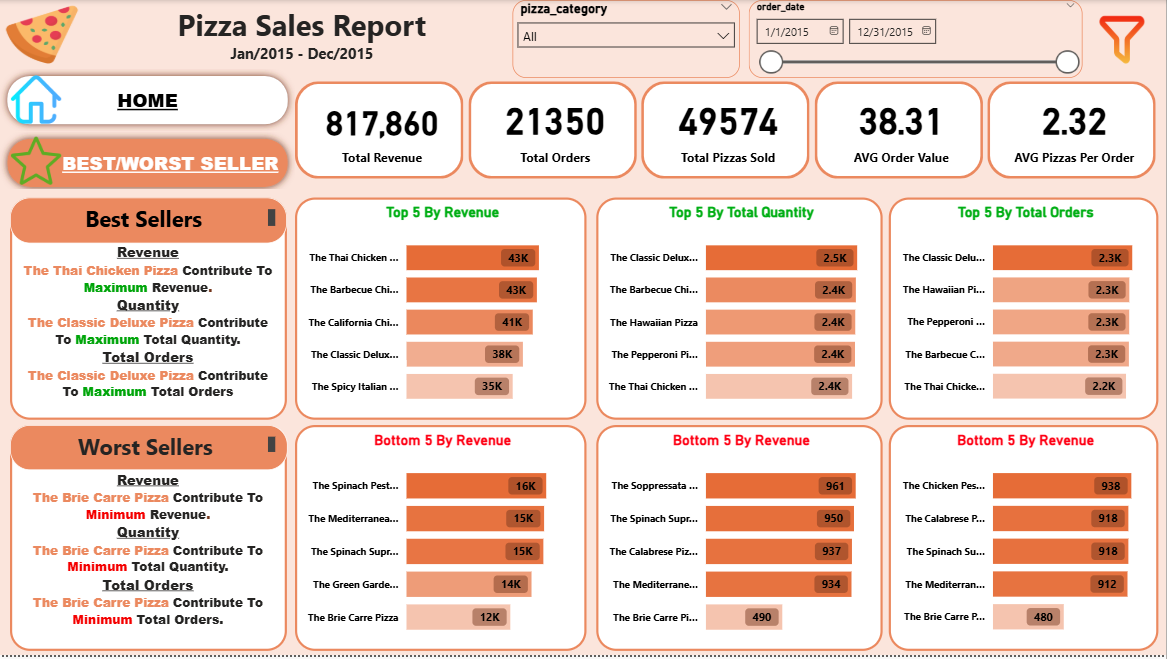

The page's visual inventory and layout, read from the dashboard file:
{"tool":"powerbi","page":{"name":"BEST/WORST SELLER","canvas":[1280,720],"ordinal":1},"visuals":[{"type":"cardVisual","fields":{"Data":["Sum(Total_Revenue.Total Revenue)","Sum(Total_Orders.Total_Orders)","Sum(Total_Pizzas_Sold.Total_Pizzas_Sold)","Sum(AVG_Order_Value.AVG_Order_Value)","Min(AVG_Pizzas_Per_Order.AVG_Pizzas_Per_Order)"]},"box":[323.8,89.2,946.8,107],"z":0},{"type":"slicer","fields":{"Values":["pizza_sales.pizza_category"]},"box":[562.1,0,249.8,85.5],"z":1000},{"type":"slicer","fields":{"Values":["pizza_sales.order_date"]},"box":[821.4,0,366.6,85.5],"z":2000},{"type":"image","box":[1192,0,78.7,85.5],"z":3000},{"type":"textbox","box":[111.1,0,440.5,79.6],"z":4000},{"type":"image","box":[0,0,92.3,76],"z":5000},{"type":"pageNavigator","box":[0,76,324.5,133.1],"z":6000},{"type":"image","box":[0,77.4,78.7,65.2],"z":7000},{"type":"image","box":[0,143.9,78.7,65.2],"z":8000},{"type":"textbox","box":[10.9,217,304.1,244],"z":9000},{"type":"textbox","box":[10.9,467,304.1,248],"z":10000},{"type":"textbox","box":[11,466.6,304.6,49.4],"z":11000},{"type":"textbox","box":[10.9,217.2,304.1,50.2],"z":12000},{"type":"barChart","title":"Bottom 5 By Revenue","fields":{"Category":["Bottom_5_Pizzas_by_Revenue (2).pizza_name"],"Y":["Sum(Bottom_5_Pizzas_by_Revenue (2).Total_Revenue)"]},"box":[323.8,466.6,319.7,248.4],"z":13000},{"type":"barChart","title":"Top 5 By Revenue","fields":{"Y":["Sum(Top_5_Pizzas_by_Revenue (2).Total_Revenue)"],"Category":["Top_5_Pizzas_by_Revenue (2).pizza_name"]},"box":[323.8,216.8,319.7,244.3],"z":14000},{"type":"barChart","title":"Top 5 By Total Quantity","fields":{"Category":["Top_5_Pizzas_by_Quantity (2).pizza_name"],"Y":["Sum(Top_5_Pizzas_by_Quantity (2).Total_Pizzas_Sold)"]},"box":[654.5,216.8,314.2,244.3],"z":15000},{"type":"barChart","title":"Bottom 5 By Revenue","fields":{"Category":["bottom_5_Pizzas_by_Quantity (2).pizza_name"],"Y":["Sum(bottom_5_Pizzas_by_Quantity (2).Total_Pizzas_Sold)"]},"box":[654.5,466.6,314.2,248.4],"z":16000},{"type":"barChart","title":"Top 5 By Total Orders","fields":{"Category":["top_5_Pizzas_by_Total_Order (2).pizza_name"],"Y":["Sum(top_5_Pizzas_by_Total_Order (2).Total_Orders)"]},"box":[975,217,296,244],"z":17000},{"type":"barChart","title":"Bottom 5 By Revenue","fields":{"Y":["Sum(bottom_5_Pizzas_by_Total_Order.Total_Orders)"],"Category":["bottom_5_Pizzas_by_Total_Order.pizza_name"]},"box":[975,467,296,248],"z":18000}]}

Visuals, with their boxes in screenshot pixels (x1, y1, x2, y2), scaled from the page's 1280x720 canvas onto the 1167x659 screenshot:
cardVisual - Sum(Total_Revenue.Total Revenue) x Sum(Total_Orders.Total_Orders): rect(295, 82, 1158, 180)
slicer - pizza_sales.pizza_category: rect(512, 0, 740, 78)
slicer - pizza_sales.order_date: rect(749, 0, 1083, 78)
image: rect(1087, 0, 1159, 78)
textbox: rect(101, 0, 503, 73)
image: rect(0, 0, 84, 70)
pageNavigator: rect(0, 70, 296, 191)
image: rect(0, 71, 72, 131)
image: rect(0, 132, 72, 191)
textbox: rect(10, 199, 287, 422)
textbox: rect(10, 427, 287, 654)
textbox: rect(10, 427, 288, 472)
textbox: rect(10, 199, 287, 245)
"Bottom 5 By Revenue" barChart: rect(295, 427, 587, 654)
"Top 5 By Revenue" barChart: rect(295, 198, 587, 422)
"Top 5 By Total Quantity" barChart: rect(597, 198, 883, 422)
"Bottom 5 By Revenue" barChart: rect(597, 427, 883, 654)
"Top 5 By Total Orders" barChart: rect(889, 199, 1159, 422)
"Bottom 5 By Revenue" barChart: rect(889, 427, 1159, 654)
